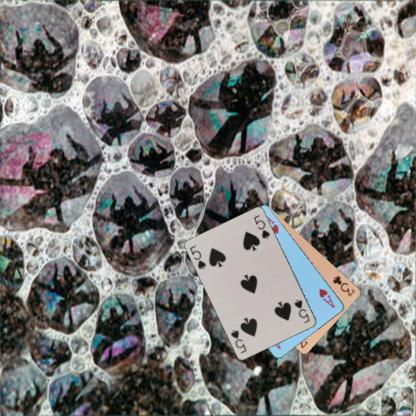3c: (330, 273, 356, 298)
5s: (187, 243, 208, 270), (292, 297, 311, 325)
Ah: (317, 286, 336, 309)
